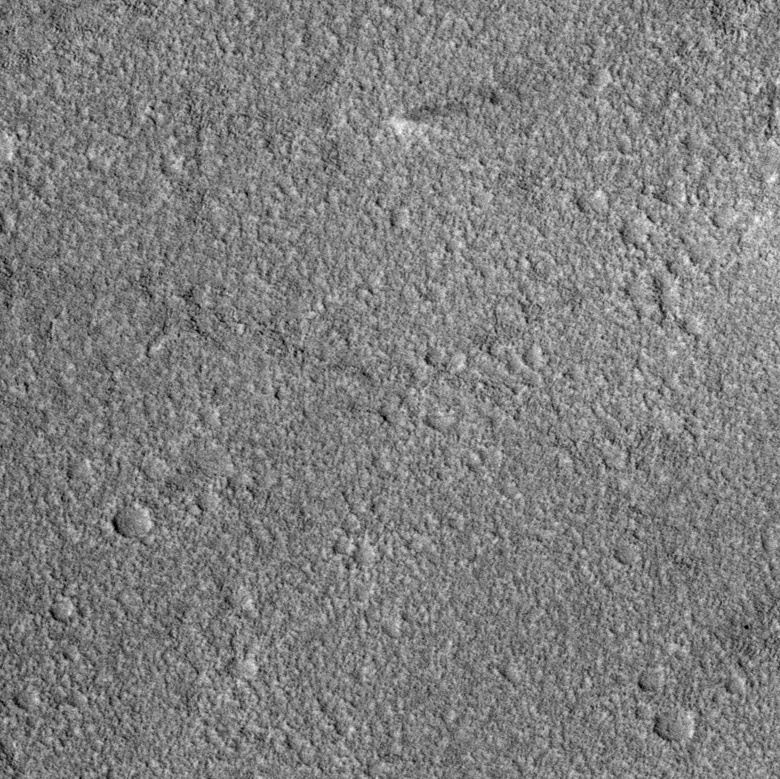dust_devil: (388, 83, 501, 138)
